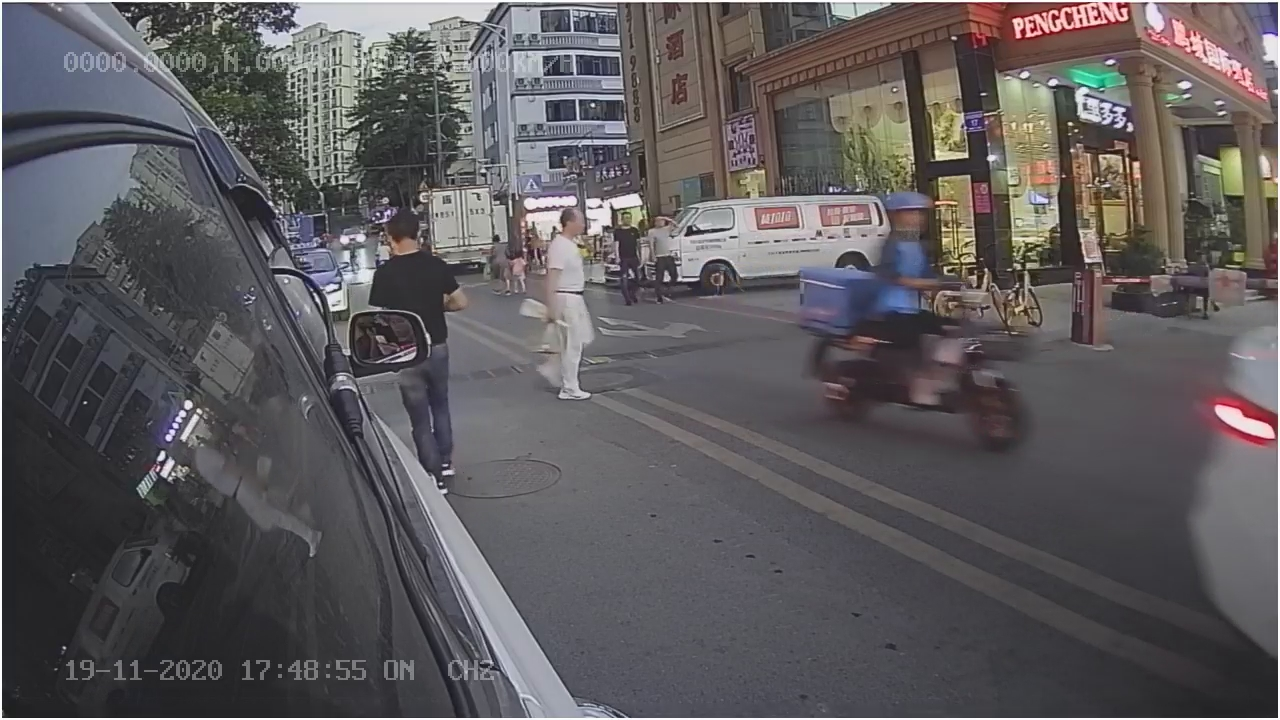person: (529, 208, 611, 404)
